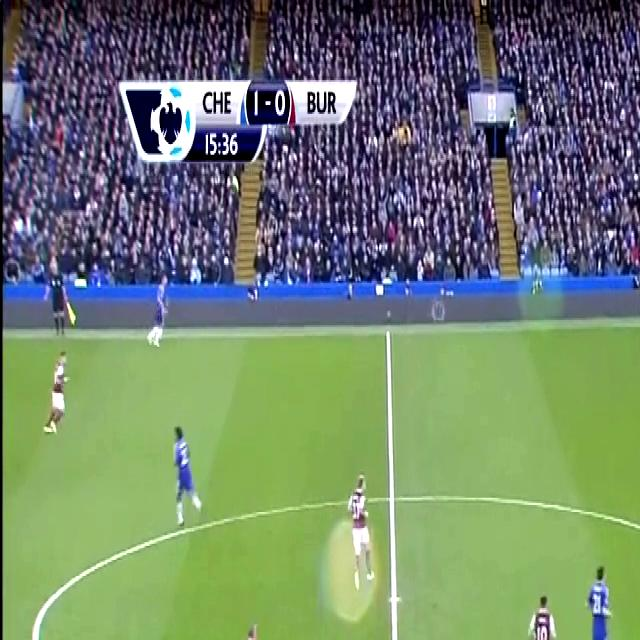referee: (38, 256, 76, 350)
soccer-player: (343, 470, 382, 595), (164, 419, 204, 529), (581, 556, 620, 640), (520, 579, 564, 640), (45, 344, 69, 446), (149, 268, 173, 358), (226, 620, 273, 640)
